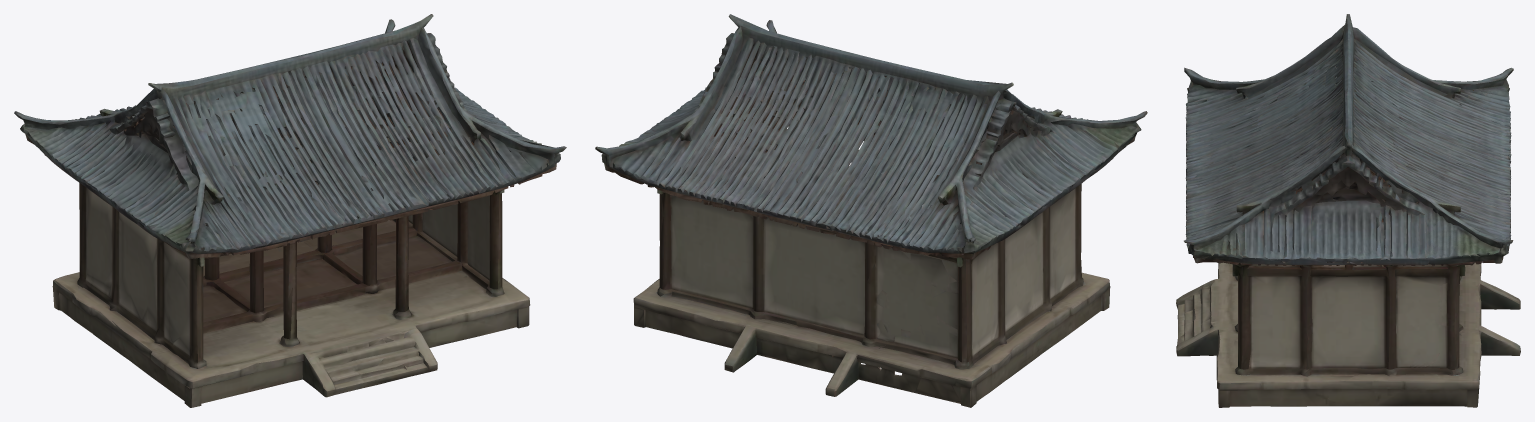
Rendered from ARCH-003.glb.
3 renders of one model, left to right at view 1: azimuth 30°, elevation 25°; view 2: azimuth 150°, elevation 25°; view 3: azimuth 270°, elevation 25°, orthographic. The views are drawn at different scales.
Parts seen in each view (by area): view 1: world; view 2: world; view 3: world.
Boxes of the visible parts, <box> form: world: <box>14,14,566,407</box>; world: <box>595,14,1147,407</box>; world: <box>1176,14,1520,407</box>.
Bounding box in the file's own units: 8 × 5.45 × 6.72.
1 material, 1 textured.
